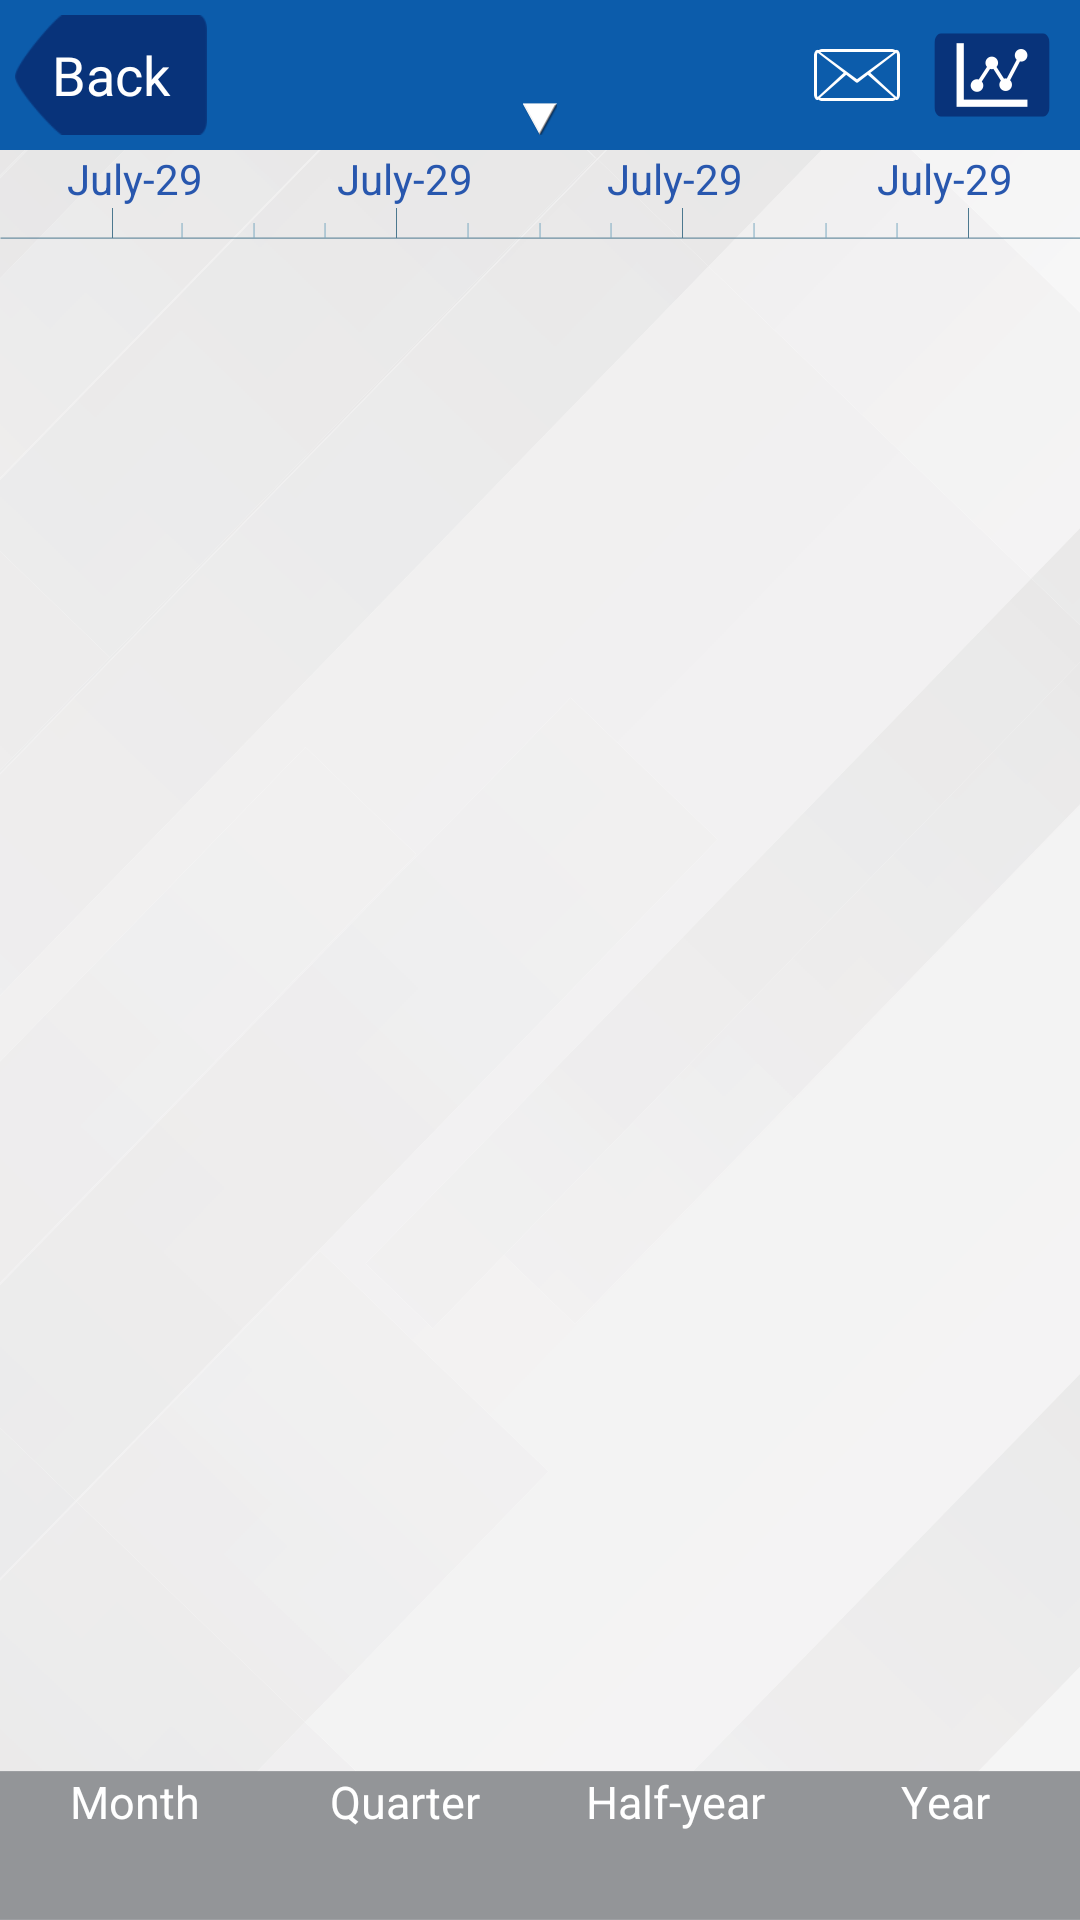

Where to tap for icons on this 1080x1920 app screen, as [x,y]:
chart: [992,75]
email: [857,75]
spinner arrow: [540,119]
